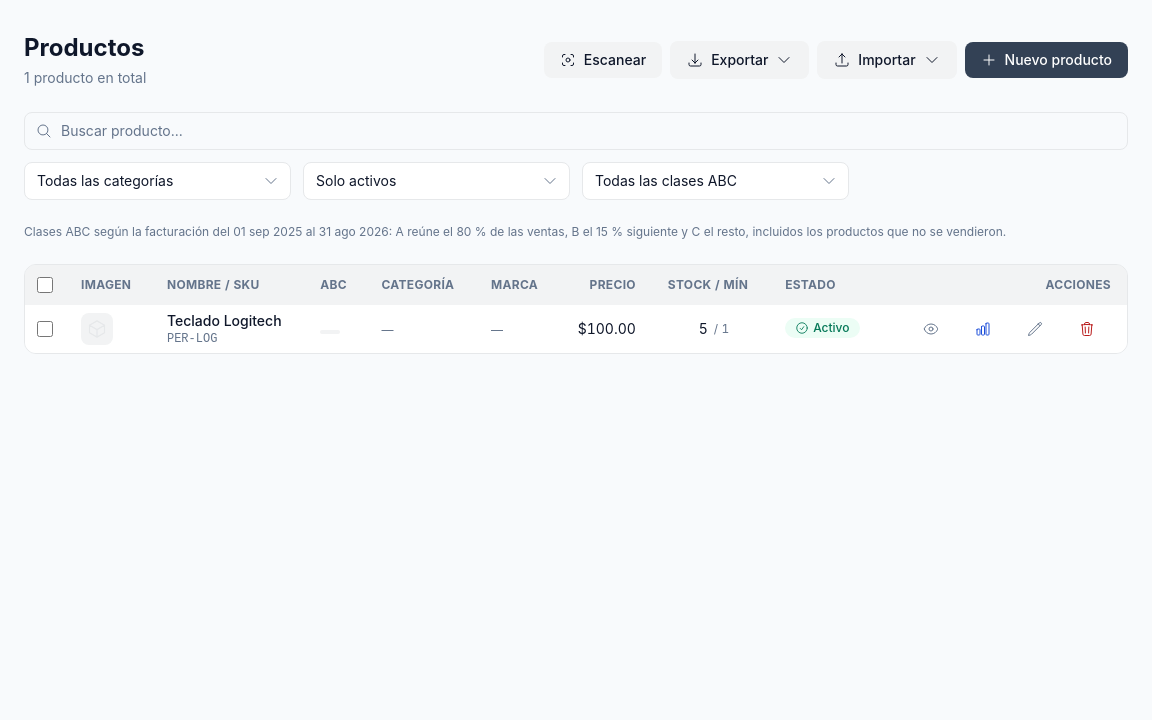
Test case: ProductsPage — hueco bajo el botón flotante (T3-09) › al deseleccionar se van los dos
Click the checkbox named "Seleccionar Teclado Logitech" at (45, 329), box 37,321 -> 53,337
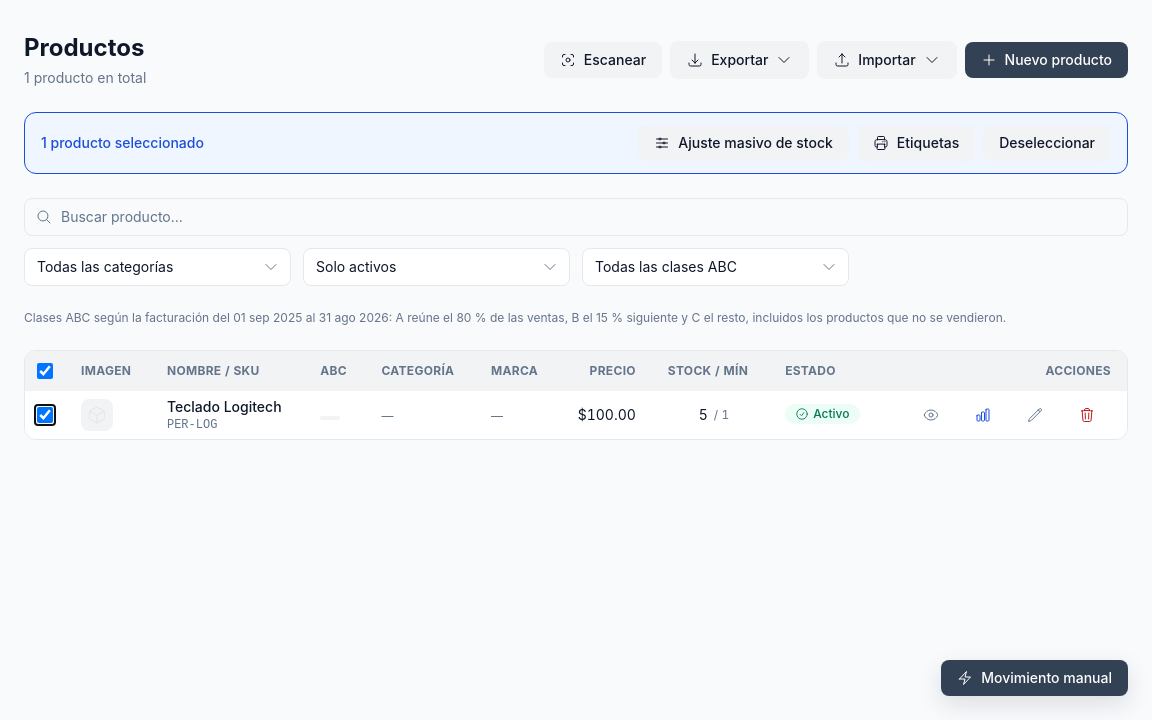
Click the checkbox named "Seleccionar Teclado Logitech" at (45, 415), box 37,407 -> 53,423
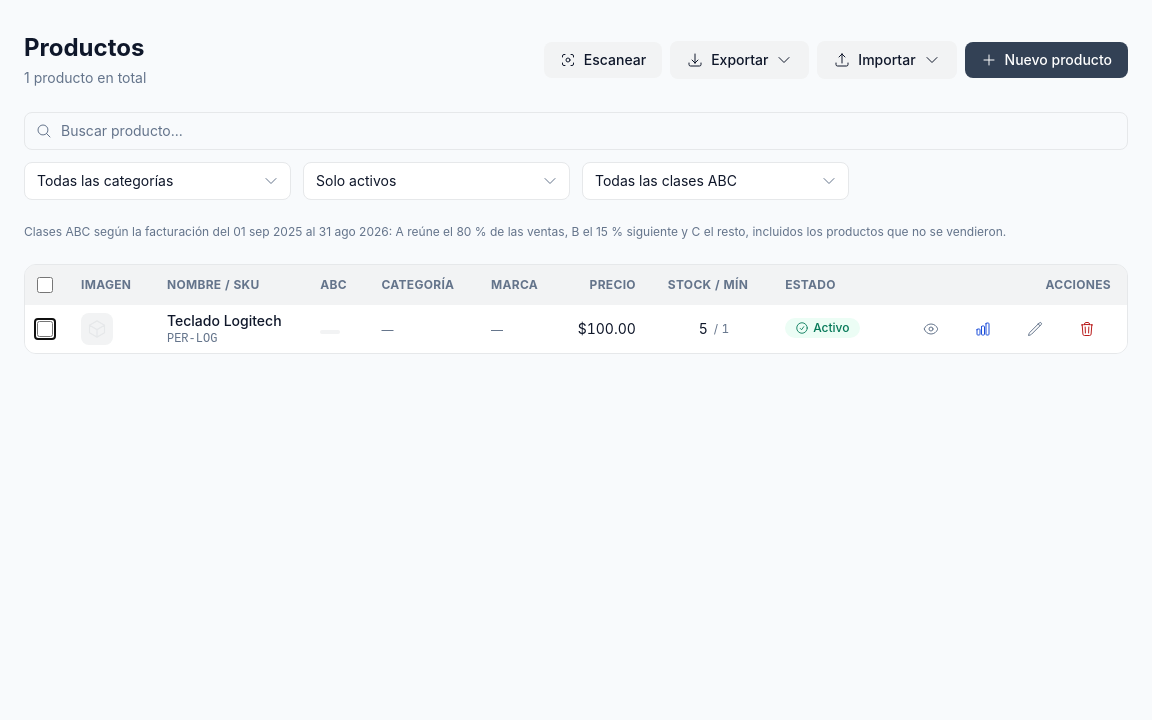
Check: the button "Movimiento manual" is gone
